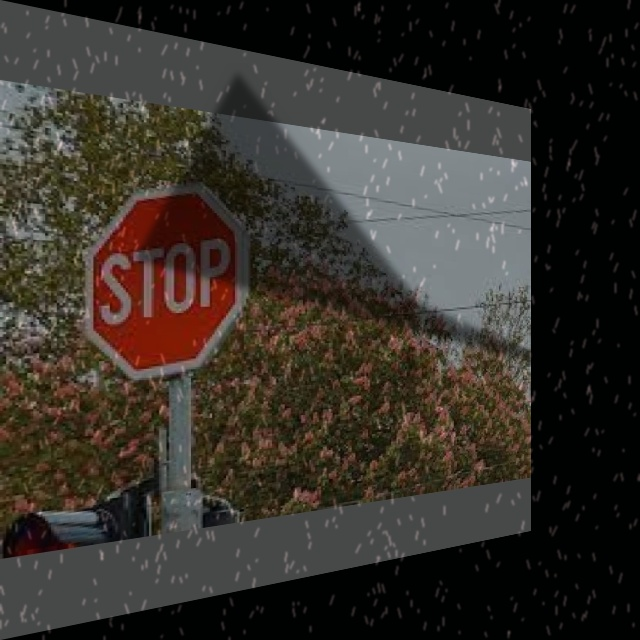Stop: (90, 177, 246, 378)
